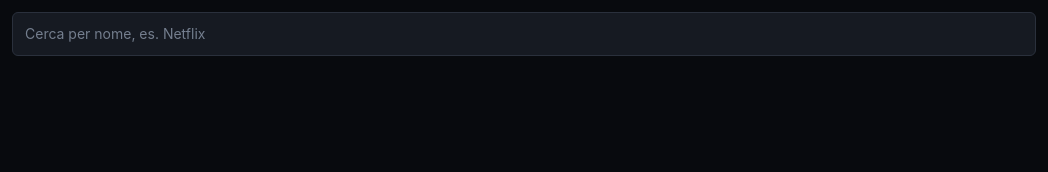
Test case: TvdbCompanySelect › sotto i 2 caratteri non apre il menù e suggerisce di scrivere
Type "n" into the dropdown at (524, 34), box [12,12,1036,56]
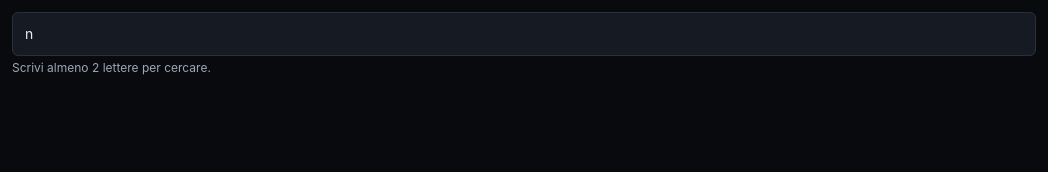
Expected: the text "Scrivi almeno 2 lettere per cercare." is shown, [12,60,211,75]
